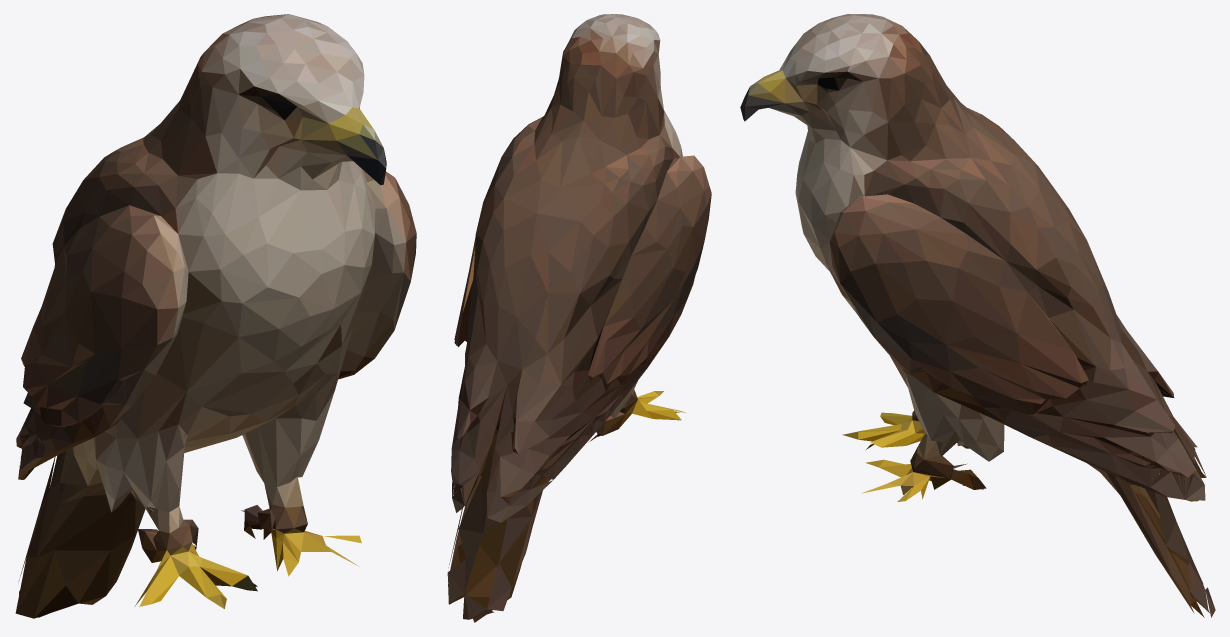
Rendered from falcon_body.glb.
3 renders of one model, left to right at view 1: azimuth 30°, elevation 25°; view 2: azimuth 150°, elevation 25°; view 3: azimuth 270°, elevation 25°, orthographic. The views are drawn at different scales.
Parts seen in each view (by area): view 1: FalconBody; view 2: FalconBody; view 3: FalconBody.
Boxes of the visible parts, bbox=[...] form: FalconBody: bbox=[15, 14, 416, 618]; FalconBody: bbox=[447, 14, 711, 622]; FalconBody: bbox=[740, 14, 1215, 617].
Size of the model in its own units: 0.1796 by 0.4373 by 0.3159.
